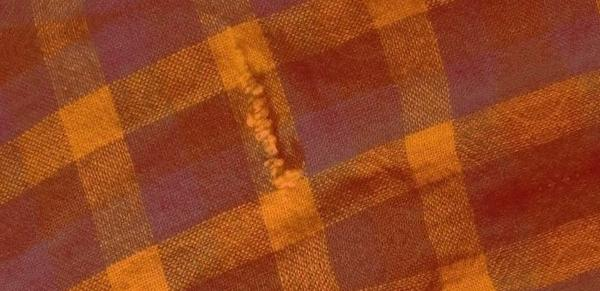knot: (234, 64, 294, 190)
